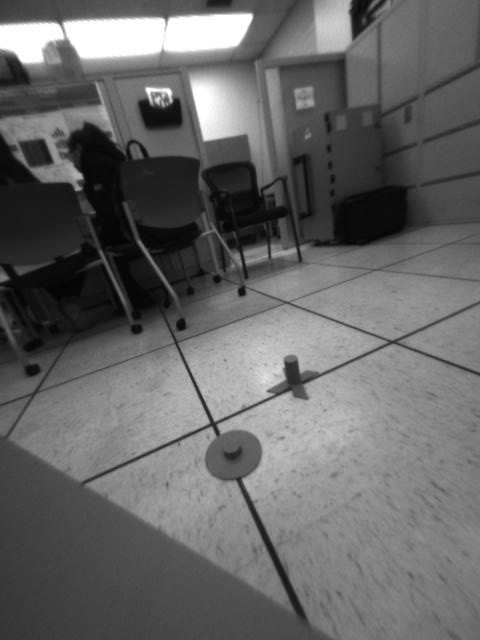X: (266, 352, 322, 402)
